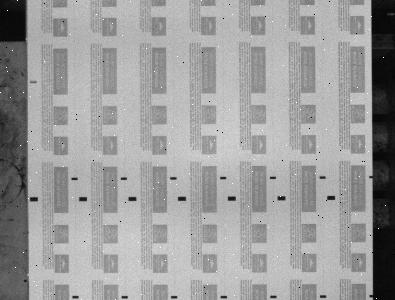backgroundclutter: (23, 279, 27, 282)
incorrect qblock: (30, 80, 37, 83), (369, 294, 374, 298), (369, 175, 373, 178)
qblock: (128, 196, 137, 201), (227, 196, 236, 201), (29, 197, 38, 202), (178, 196, 186, 201), (327, 195, 335, 200), (277, 196, 286, 200), (79, 197, 87, 201)
smallqblock: (171, 295, 178, 299), (121, 295, 128, 299), (71, 177, 78, 180), (220, 176, 227, 179), (120, 177, 127, 180), (170, 177, 177, 180), (319, 176, 326, 179), (72, 295, 79, 298), (270, 295, 277, 298), (220, 295, 227, 298), (270, 176, 276, 179), (320, 295, 326, 298)
